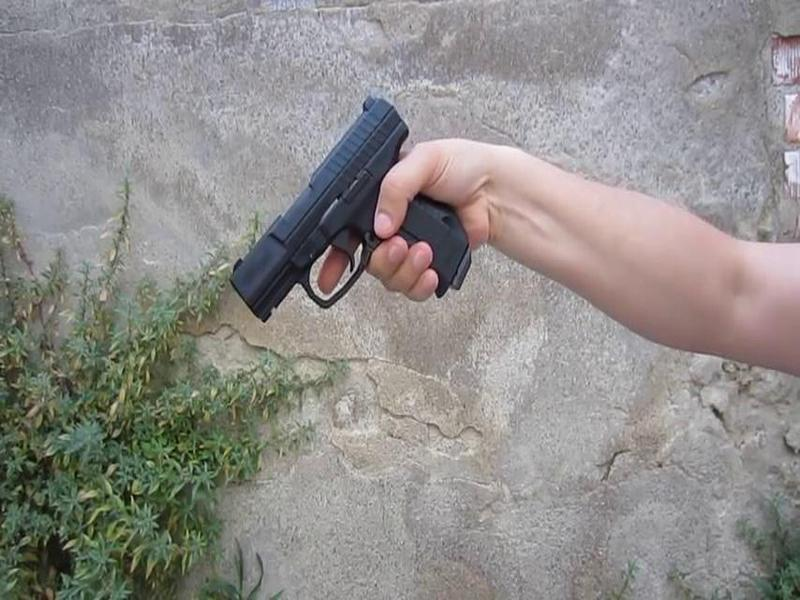Pistola: (217, 83, 489, 350)
